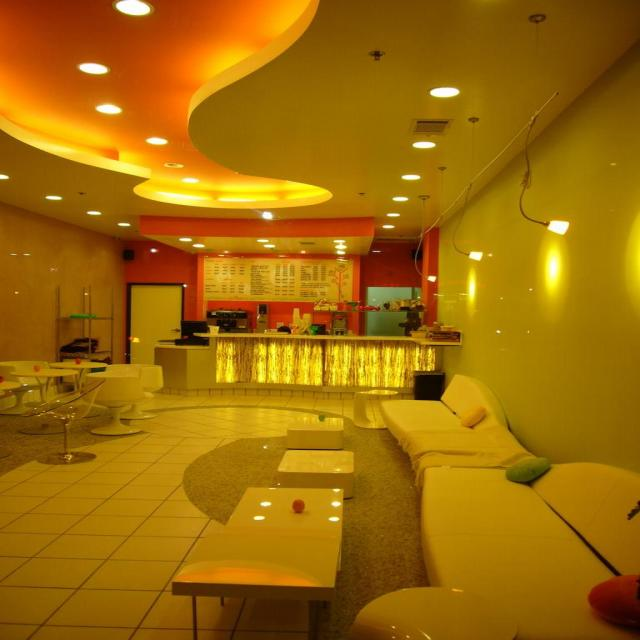Table: (3, 364, 137, 470)
